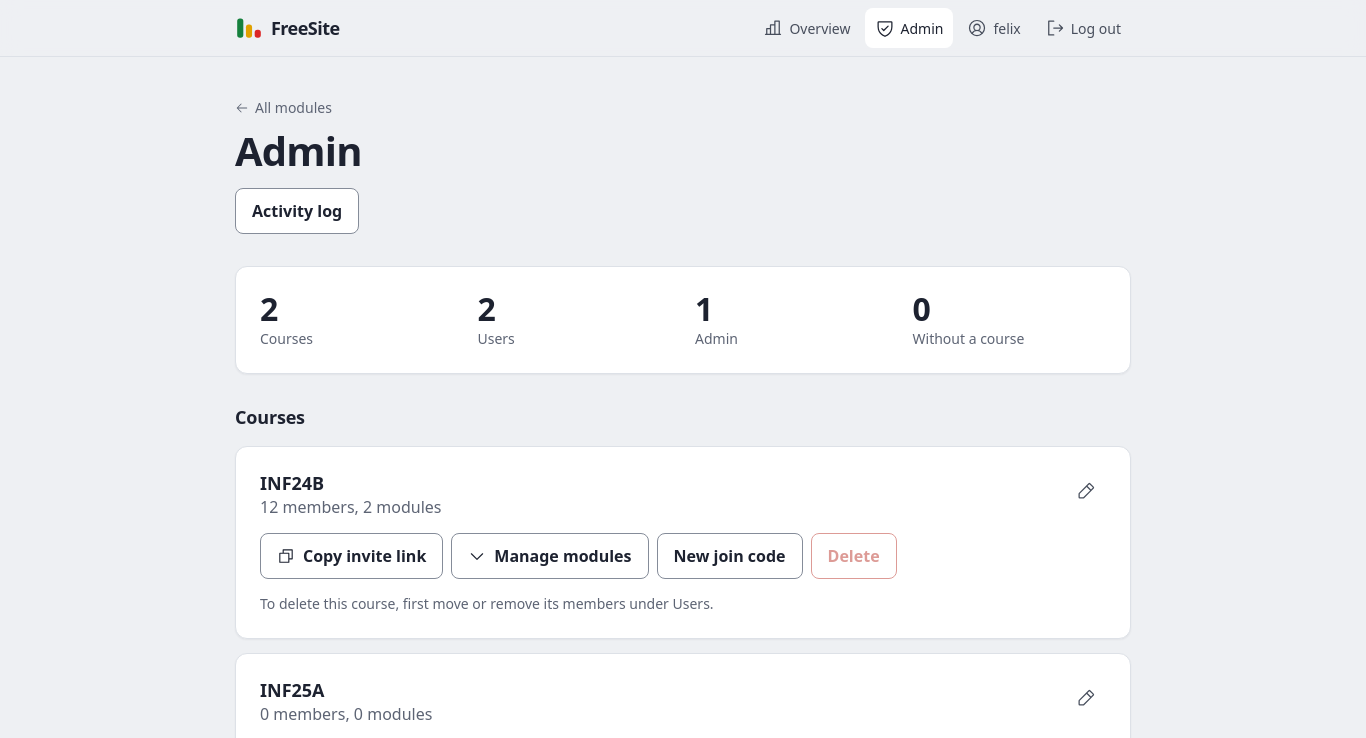
AdminPage › keeps several courses open at once
The image size is (1366, 738).
Click the button "Manage modules" below "INF24B": (550, 556) [451,533,648,579]
(page scrolled)
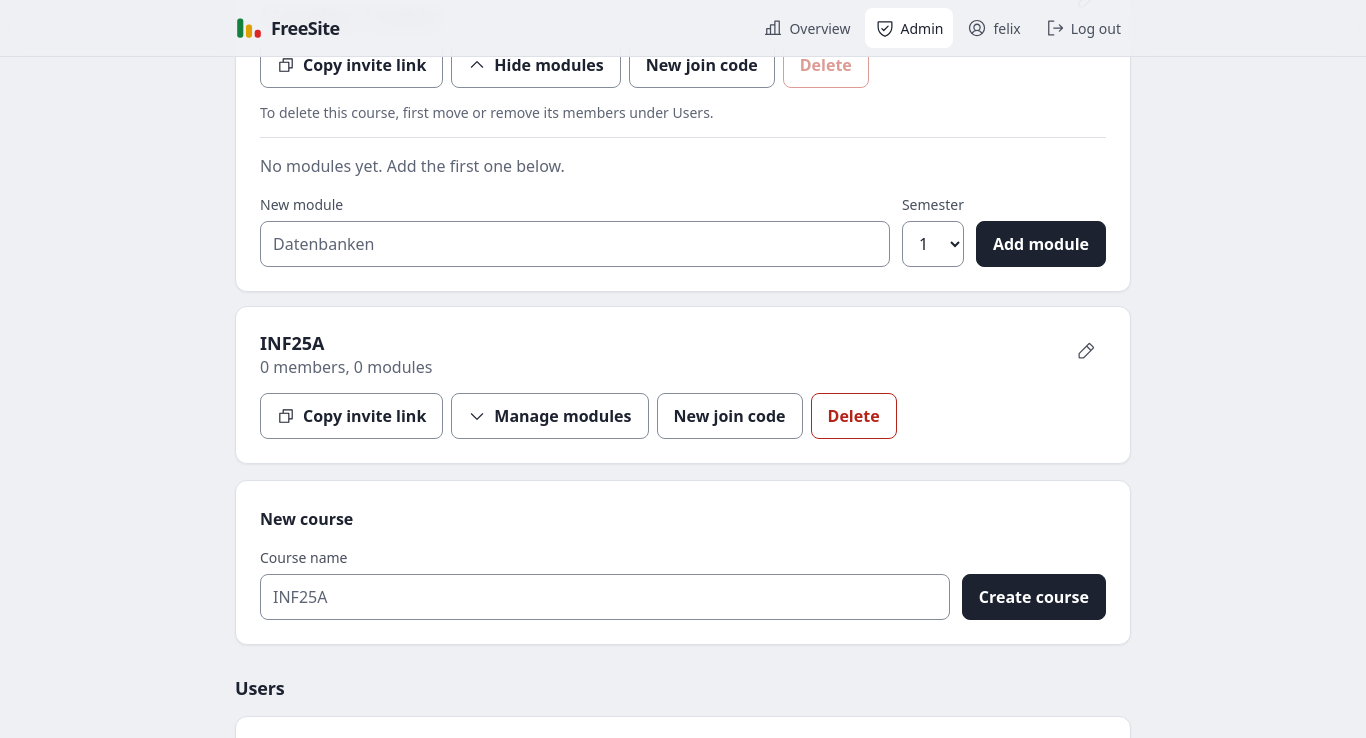
Click the button "Manage modules": (550, 416) [451,393,648,439]
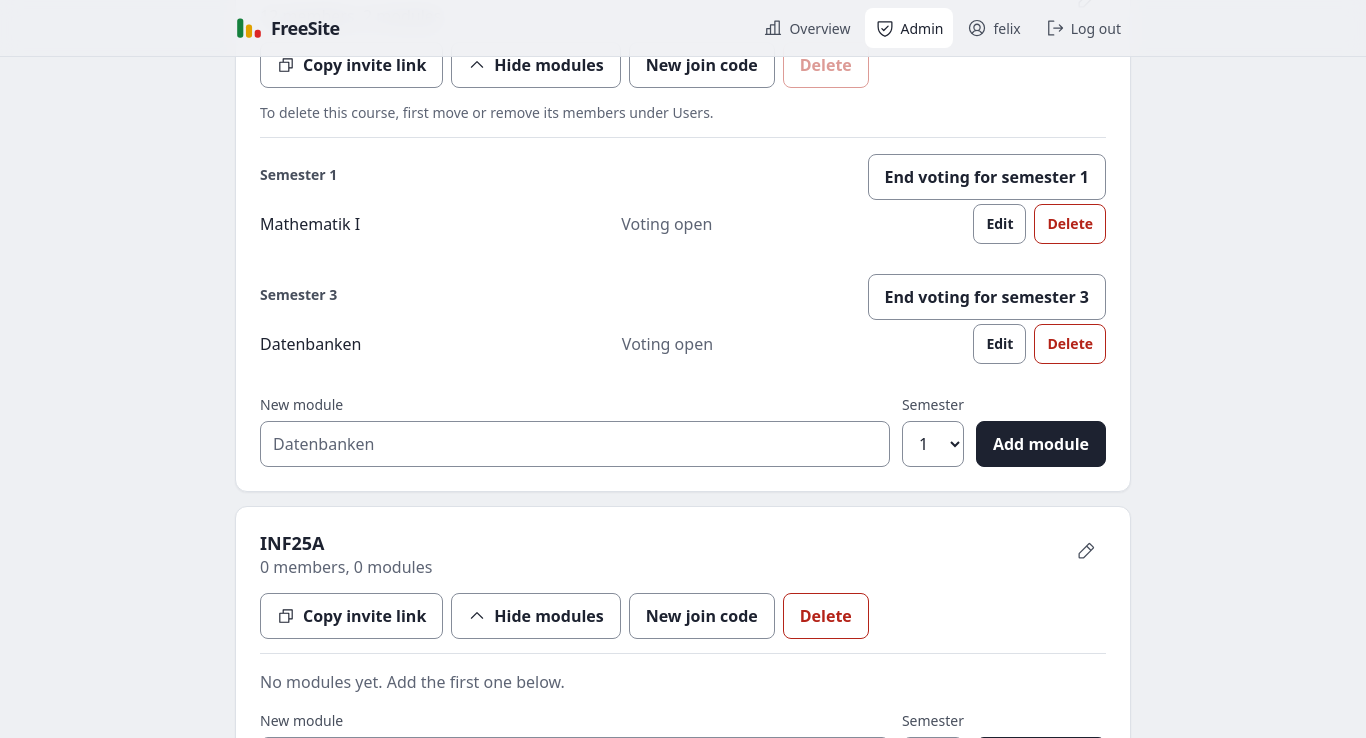
Result: the text "No modules yet. Add the first one below." is shown at [260,671,565,693]
Result: the text "Datenbanken" is shown at [260,332,362,356]
Result: the number of buttons "Hide modules" is 2 at [451,42,621,88]; [451,593,621,639]
